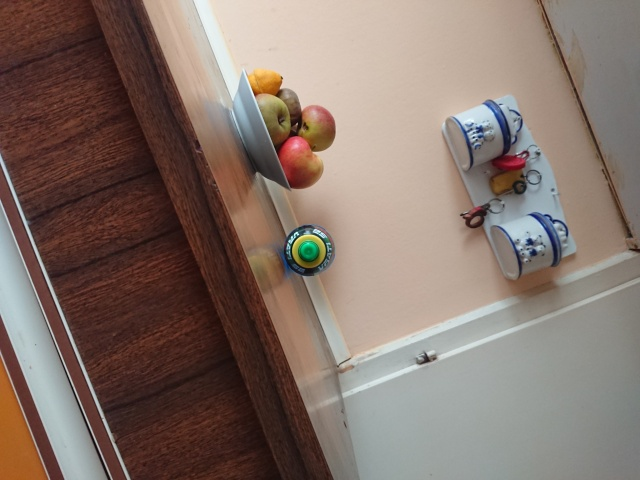Vindi Iso Sport Forest Strawberries 500mL: (281, 222, 336, 277)
